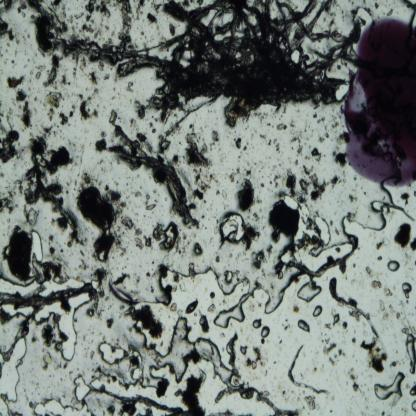Air bubble: (162, 314, 238, 388), (31, 294, 91, 363), (339, 186, 392, 238), (0, 337, 28, 416), (250, 278, 294, 315), (213, 292, 251, 328), (32, 399, 95, 416), (372, 371, 406, 401), (228, 209, 249, 246), (240, 345, 269, 370), (98, 340, 124, 367), (296, 279, 322, 303), (29, 229, 45, 265), (73, 374, 93, 402), (315, 215, 332, 245), (405, 332, 416, 374), (297, 319, 312, 334), (283, 194, 298, 209), (129, 366, 145, 379), (387, 260, 399, 272), (224, 270, 233, 284), (312, 305, 322, 317), (261, 326, 270, 338), (332, 313, 340, 325), (402, 283, 412, 292), (252, 319, 262, 328), (409, 385, 416, 396), (226, 342, 232, 354), (411, 400, 416, 412), (377, 256, 382, 262)
Background material: (74, 182, 122, 266), (26, 130, 64, 209), (27, 0, 68, 59), (287, 344, 328, 394), (0, 223, 32, 282), (3, 70, 34, 129), (1, 313, 34, 363), (54, 204, 88, 249), (175, 369, 206, 416), (72, 0, 112, 34), (127, 304, 167, 338), (183, 130, 213, 170), (360, 336, 388, 373), (320, 330, 345, 368), (47, 142, 73, 178), (152, 221, 182, 252), (36, 258, 64, 290), (223, 102, 252, 130), (117, 0, 133, 49), (42, 53, 64, 87), (317, 114, 341, 144), (0, 128, 20, 163), (76, 94, 100, 121), (290, 127, 314, 154), (236, 178, 255, 212), (134, 92, 160, 116), (296, 230, 324, 251), (193, 167, 220, 188), (393, 222, 412, 250), (241, 224, 261, 250), (309, 174, 327, 202), (134, 225, 154, 248), (260, 134, 283, 154), (401, 0, 416, 29), (22, 202, 40, 226), (44, 89, 65, 109), (220, 218, 239, 240), (177, 168, 193, 193), (136, 132, 154, 154), (91, 265, 108, 288), (285, 166, 297, 198), (398, 299, 411, 328), (113, 231, 126, 259), (209, 408, 254, 416), (79, 171, 100, 188), (0, 194, 16, 216), (157, 132, 173, 154), (42, 324, 56, 349), (0, 16, 14, 41), (87, 283, 99, 312), (240, 160, 259, 178), (121, 397, 139, 416), (333, 146, 347, 169), (252, 249, 267, 270), (124, 349, 141, 367), (259, 110, 278, 126), (155, 377, 169, 398), (184, 298, 200, 316), (51, 216, 70, 231), (144, 192, 159, 210), (133, 0, 145, 22), (199, 313, 211, 335), (304, 396, 321, 411), (268, 261, 283, 278), (112, 272, 130, 286), (17, 140, 31, 158), (56, 332, 68, 352), (41, 349, 52, 370), (0, 0, 17, 13), (94, 138, 109, 152), (160, 107, 172, 124), (0, 306, 10, 326), (299, 178, 310, 196), (192, 240, 203, 258), (190, 347, 201, 365), (121, 215, 135, 229), (336, 131, 350, 145), (311, 148, 323, 164), (296, 397, 306, 416), (366, 266, 380, 279), (41, 123, 54, 137), (13, 178, 23, 196), (88, 71, 100, 86), (376, 238, 391, 250), (110, 190, 121, 206), (77, 150, 84, 175), (4, 181, 13, 200), (18, 0, 28, 17), (91, 366, 104, 379), (295, 190, 306, 205), (188, 262, 198, 278), (170, 153, 182, 166), (348, 309, 360, 322), (151, 0, 164, 12), (348, 367, 359, 381), (390, 394, 401, 408), (400, 191, 410, 206), (210, 130, 220, 145), (305, 215, 315, 230), (61, 4, 69, 22), (275, 188, 287, 200), (192, 189, 204, 201), (273, 174, 283, 188), (159, 265, 169, 279), (59, 112, 69, 126), (129, 118, 139, 132), (78, 258, 88, 272), (352, 380, 362, 394), (218, 236, 227, 251), (79, 55, 88, 70), (147, 12, 158, 24), (300, 164, 310, 177), (324, 0, 332, 16), (110, 108, 117, 126), (167, 22, 176, 36), (326, 18, 335, 32), (46, 107, 55, 121), (251, 210, 260, 224), (107, 405, 118, 416), (330, 175, 342, 185), (233, 269, 241, 283), (117, 304, 125, 318), (142, 409, 158, 416), (8, 409, 24, 416), (372, 280, 382, 291), (96, 308, 106, 319), (52, 0, 63, 10), (105, 318, 115, 329), (68, 138, 77, 150), (125, 80, 134, 92), (47, 245, 57, 255), (384, 286, 394, 296), (118, 200, 128, 210), (382, 202, 390, 214), (78, 142, 86, 154), (0, 124, 8, 136), (165, 284, 173, 296), (178, 246, 188, 255), (62, 75, 70, 86), (121, 331, 129, 342), (276, 123, 287, 131), (390, 360, 401, 368), (254, 278, 261, 290), (72, 65, 78, 79), (410, 237, 416, 251), (362, 7, 371, 16), (31, 335, 40, 344), (183, 0, 192, 9), (348, 194, 358, 202), (36, 64, 46, 72), (207, 304, 217, 312), (234, 138, 242, 148), (172, 273, 180, 283), (291, 304, 299, 314), (87, 308, 95, 318), (236, 368, 242, 381), (229, 172, 236, 183), (155, 352, 160, 367), (152, 268, 160, 277), (54, 360, 62, 369), (91, 88, 100, 96), (281, 176, 287, 188), (14, 34, 20, 46), (180, 284, 187, 294), (372, 0, 379, 10), (266, 245, 272, 256), (379, 300, 385, 311), (324, 322, 332, 330), (135, 190, 143, 198), (100, 129, 108, 137), (387, 8, 395, 16), (66, 178, 74, 186), (347, 212, 355, 220), (217, 155, 224, 164), (113, 2, 120, 11), (131, 288, 138, 297), (98, 156, 105, 165), (332, 0, 339, 9), (100, 166, 107, 175), (256, 195, 263, 204), (389, 304, 395, 314), (261, 268, 267, 278), (134, 275, 140, 285), (99, 61, 105, 71), (236, 253, 242, 263), (34, 72, 42, 79), (106, 38, 113, 46), (102, 73, 110, 80), (170, 305, 178, 312), (284, 395, 292, 402), (342, 170, 346, 184), (149, 342, 156, 350), (402, 326, 409, 334), (254, 111, 262, 118), (103, 184, 110, 192), (48, 234, 53, 245), (221, 190, 226, 201), (182, 229, 187, 240), (404, 290, 410, 299), (390, 210, 396, 219), (290, 119, 296, 128), (214, 225, 220, 234), (71, 104, 77, 113), (202, 184, 207, 194), (249, 302, 254, 312), (396, 310, 401, 320), (97, 397, 102, 407), (218, 332, 226, 338), (172, 284, 178, 292), (100, 290, 106, 298), (312, 366, 318, 374), (352, 183, 358, 191), (256, 300, 262, 308), (145, 270, 151, 278), (284, 323, 290, 331), (410, 326, 416, 334), (215, 255, 221, 263), (342, 322, 348, 330), (69, 369, 73, 381), (72, 315, 78, 323), (210, 292, 216, 300), (53, 80, 58, 89), (282, 105, 287, 114), (243, 278, 248, 287), (340, 12, 346, 19), (53, 122, 60, 128), (313, 104, 320, 110), (62, 361, 68, 368), (334, 228, 340, 235), (335, 246, 341, 253), (222, 299, 228, 306), (304, 154, 311, 160), (277, 382, 283, 389), (189, 123, 195, 130), (336, 111, 342, 118), (111, 29, 116, 37), (14, 47, 18, 57), (404, 252, 409, 260), (220, 345, 225, 353), (114, 179, 119, 187), (352, 8, 356, 18), (0, 110, 5, 118), (53, 129, 58, 137), (128, 324, 133, 332), (30, 400, 35, 408), (364, 405, 370, 411), (104, 296, 110, 302), (12, 62, 18, 68), (272, 165, 278, 171), (198, 0, 204, 6), (90, 350, 94, 359), (80, 250, 86, 256), (362, 331, 368, 337), (179, 309, 183, 318), (153, 116, 159, 122), (330, 394, 335, 401), (260, 339, 265, 346), (0, 171, 5, 178), (380, 206, 384, 214), (300, 372, 304, 380), (151, 285, 155, 293), (170, 366, 174, 374), (236, 167, 240, 175), (250, 132, 254, 140), (329, 12, 337, 16), (384, 312, 388, 320), (313, 111, 317, 119), (70, 110, 74, 118), (209, 236, 213, 244), (310, 165, 314, 173), (82, 334, 86, 342), (209, 144, 213, 152), (405, 383, 410, 389), (362, 411, 368, 416), (84, 226, 89, 232), (404, 260, 409, 266), (193, 312, 198, 318), (350, 279, 355, 285), (56, 396, 62, 401), (6, 42, 11, 48), (158, 341, 164, 346), (329, 219, 333, 226), (84, 128, 88, 135), (336, 63, 340, 70), (126, 193, 130, 200), (271, 283, 275, 290), (7, 216, 11, 223), (50, 393, 54, 400), (361, 0, 366, 5), (79, 94, 84, 99), (23, 64, 28, 69), (118, 118, 123, 123), (111, 95, 116, 100), (352, 337, 356, 343), (140, 30, 144, 36), (216, 273, 220, 279), (102, 410, 106, 416), (282, 390, 286, 396), (354, 174, 358, 180), (24, 48, 27, 56), (200, 224, 204, 230), (209, 204, 213, 210), (344, 61, 348, 67), (64, 190, 70, 194), (156, 24, 160, 30), (60, 248, 64, 254), (150, 121, 154, 127), (316, 320, 322, 324), (34, 96, 38, 102), (153, 128, 157, 134), (178, 140, 182, 146), (382, 195, 386, 201), (401, 358, 405, 364), (99, 330, 103, 336), (316, 209, 319, 216), (26, 395, 29, 402), (13, 164, 16, 171), (413, 190, 416, 197), (405, 299, 409, 304), (381, 411, 385, 416), (0, 100, 2, 110), (261, 182, 265, 187), (325, 395, 329, 400), (268, 180, 272, 185), (26, 33, 30, 38), (253, 129, 258, 133), (70, 14, 72, 24), (279, 339, 283, 344), (284, 318, 288, 323), (229, 253, 233, 258), (404, 408, 408, 413), (362, 392, 366, 397), (174, 113, 178, 118), (216, 191, 220, 196), (352, 353, 356, 358), (294, 110, 300, 113), (102, 335, 105, 341), (13, 190, 16, 196), (348, 1, 354, 4), (250, 112, 253, 118), (295, 160, 298, 166), (115, 265, 118, 271), (216, 218, 219, 224), (396, 348, 399, 354), (265, 370, 268, 376), (192, 278, 195, 284), (164, 197, 168, 201), (243, 146, 247, 150), (34, 107, 36, 115), (124, 182, 128, 186), (365, 398, 369, 402), (138, 264, 142, 268), (302, 390, 306, 394), (128, 100, 132, 104), (222, 206, 226, 210), (400, 407, 404, 411), (388, 413, 393, 416), (353, 263, 356, 268), (143, 214, 146, 219), (15, 204, 18, 209), (353, 329, 356, 334), (332, 185, 335, 190), (27, 57, 30, 62), (393, 286, 396, 291), (370, 233, 373, 238), (409, 256, 412, 261), (243, 250, 246, 255), (12, 59, 15, 64), (63, 394, 66, 399), (113, 87, 116, 92), (151, 261, 154, 265), (110, 304, 112, 310), (139, 186, 142, 190), (137, 174, 140, 178), (49, 374, 52, 378), (411, 277, 414, 281), (246, 141, 249, 145), (39, 100, 42, 104), (126, 256, 129, 260), (310, 204, 313, 208), (124, 264, 127, 268), (260, 160, 263, 164), (308, 124, 311, 128), (323, 18, 326, 22), (382, 231, 385, 235), (258, 169, 261, 173), (36, 382, 39, 386), (238, 155, 241, 159), (330, 409, 333, 413), (202, 259, 205, 263), (0, 117, 2, 123), (278, 335, 281, 339), (92, 338, 94, 344), (281, 323, 284, 327), (364, 383, 367, 387), (323, 154, 326, 158), (60, 377, 63, 381), (245, 258, 249, 261), (1, 69, 3, 75), (346, 380, 348, 386), (37, 392, 40, 396), (267, 174, 270, 178), (414, 304, 416, 310), (322, 363, 324, 368), (6, 48, 8, 53), (414, 260, 416, 265), (24, 388, 26, 393), (204, 199, 206, 204), (194, 233, 196, 238), (346, 330, 349, 333), (261, 166, 264, 169), (327, 182, 330, 185), (231, 168, 234, 171), (292, 391, 295, 394), (413, 381, 416, 384), (268, 156, 271, 159), (278, 117, 281, 120), (210, 109, 212, 113), (298, 397, 300, 401), (265, 156, 267, 160), (340, 125, 344, 127), (154, 190, 156, 194), (238, 365, 240, 369), (247, 270, 249, 274), (1, 53, 3, 57), (274, 361, 276, 365), (205, 226, 207, 230), (206, 209, 210, 211), (200, 126, 202, 130), (374, 231, 376, 234), (279, 164, 281, 167), (202, 216, 204, 219), (213, 216, 216, 218), (216, 208, 218, 211), (5, 58, 8, 60), (245, 127, 247, 130), (247, 125, 249, 128), (32, 367, 34, 370), (270, 173, 272, 176), (233, 131, 236, 133), (412, 313, 414, 316), (228, 263, 230, 266), (77, 368, 79, 371), (289, 161, 291, 164), (4, 61, 6, 64), (271, 191, 273, 194), (152, 115, 154, 118), (409, 267, 411, 270), (30, 370, 32, 373), (278, 158, 280, 161), (262, 176, 264, 178), (337, 201, 339, 203), (360, 178, 362, 180), (238, 160, 240, 162), (240, 152, 242, 154), (208, 218, 210, 220), (361, 188, 363, 190), (364, 192, 366, 194), (324, 50, 325, 54), (408, 313, 410, 315), (268, 167, 270, 169), (92, 332, 94, 334), (281, 115, 283, 117), (405, 276, 407, 278), (204, 241, 206, 243), (356, 360, 358, 362), (374, 237, 375, 240), (36, 53, 37, 56), (253, 146, 254, 149), (227, 205, 229, 206), (412, 268, 413, 270), (288, 157, 289, 159), (313, 130, 314, 132), (108, 308, 109, 310), (283, 162, 284, 164), (251, 144, 252, 145), (32, 393, 33, 394), (406, 374, 407, 375), (260, 191, 260, 193)
Cellulose filter fibre: (126, 0, 358, 111), (110, 127, 199, 227), (327, 277, 386, 353), (66, 34, 164, 78), (0, 280, 99, 314), (279, 237, 358, 277), (165, 97, 217, 136), (137, 394, 182, 415), (257, 392, 296, 416), (214, 382, 257, 403), (386, 203, 415, 223), (91, 384, 122, 402)
Fragment: (270, 199, 302, 237)
Pen: (341, 18, 416, 190)
